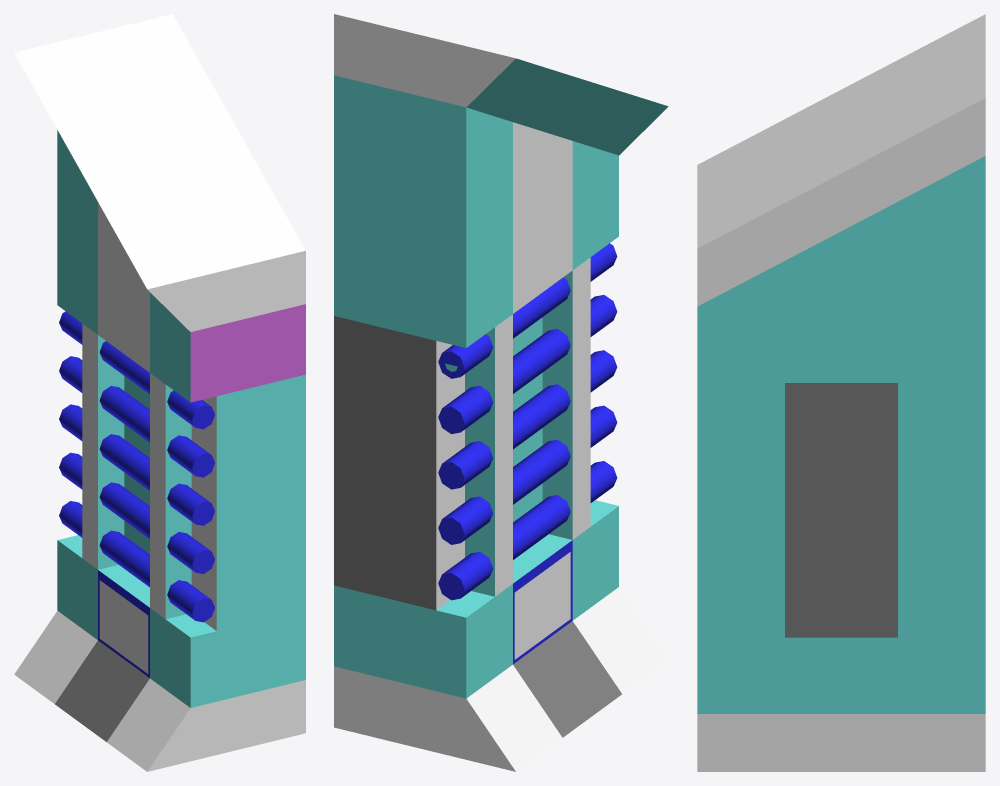
File: WallBaseToMid.fbx
The picture shows the model from 3 angles, left to right: view 1: azimuth 30°, elevation 25°; view 2: azimuth 150°, elevation 25°; view 3: azimuth 270°, elevation 25°; orthographic projection. The views are drawn at different scales.
Parts seen in each view (by area): view 1: BaseToMid; view 2: BaseToMid; view 3: BaseToMid.
Part boxes in pixels (x1=…): BaseToMid: x1=14, y1=14, x2=305, y2=771; BaseToMid: x1=334, y1=14, x2=668, y2=771; BaseToMid: x1=697, y1=14, x2=985, y2=771.
Size of the model in its own units: 54.17 by 203 by 78.74.
